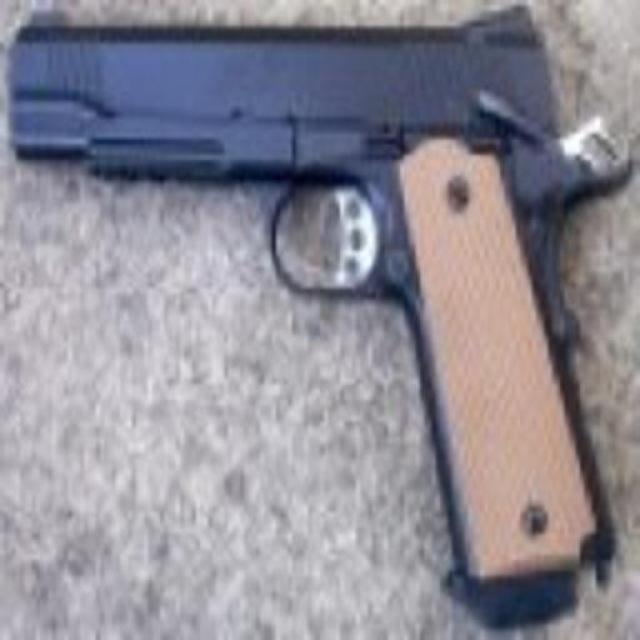pistol: (11, 21, 615, 607)
